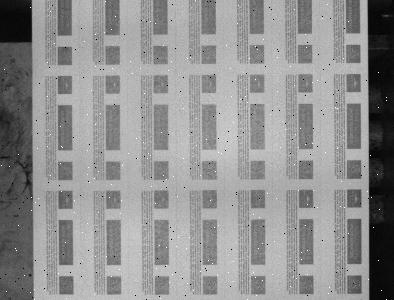backgroundclutter: (29, 273, 32, 277)
